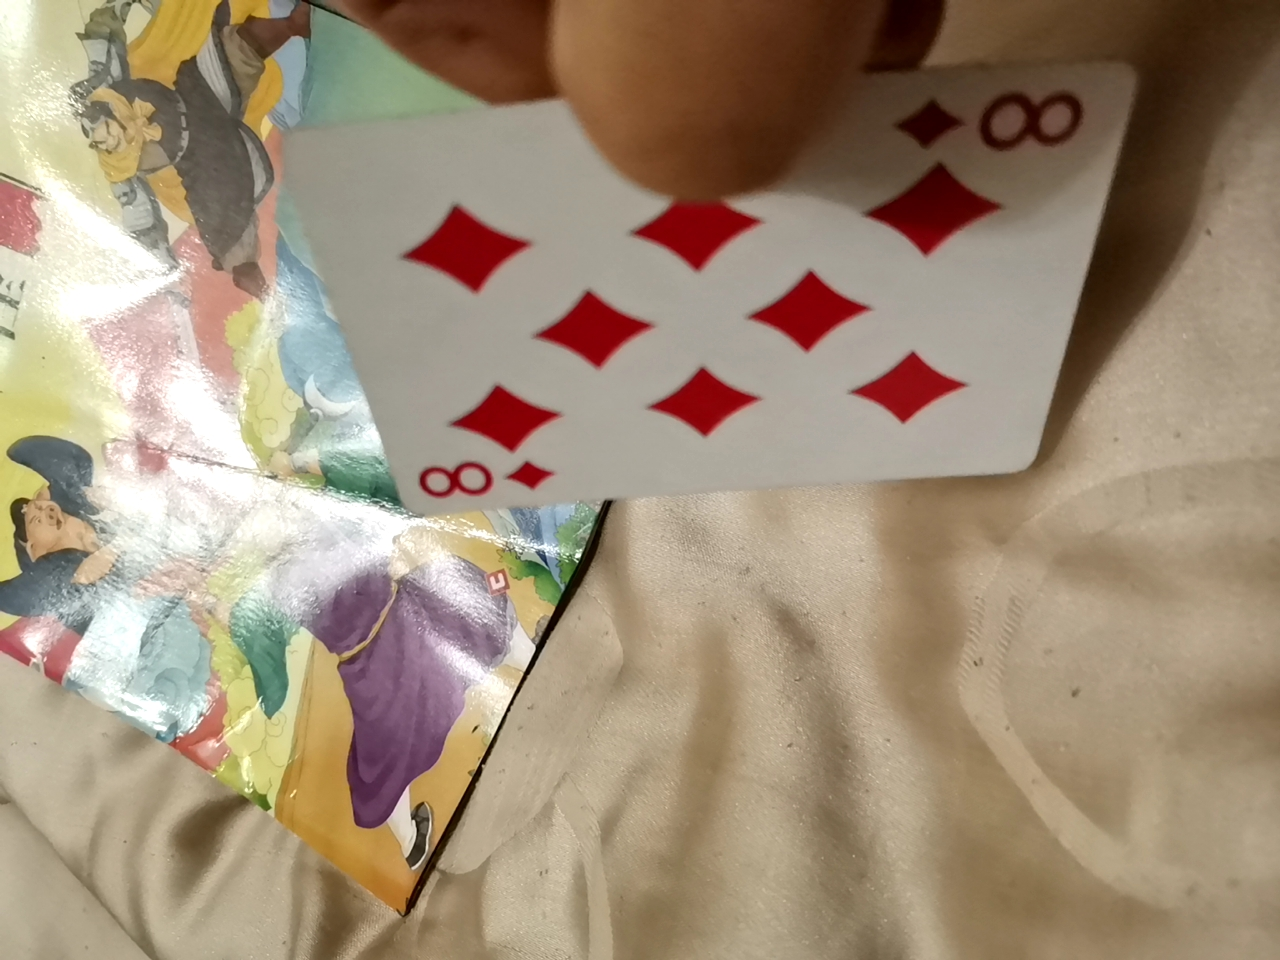fk 8: (357, 84, 1110, 528)
